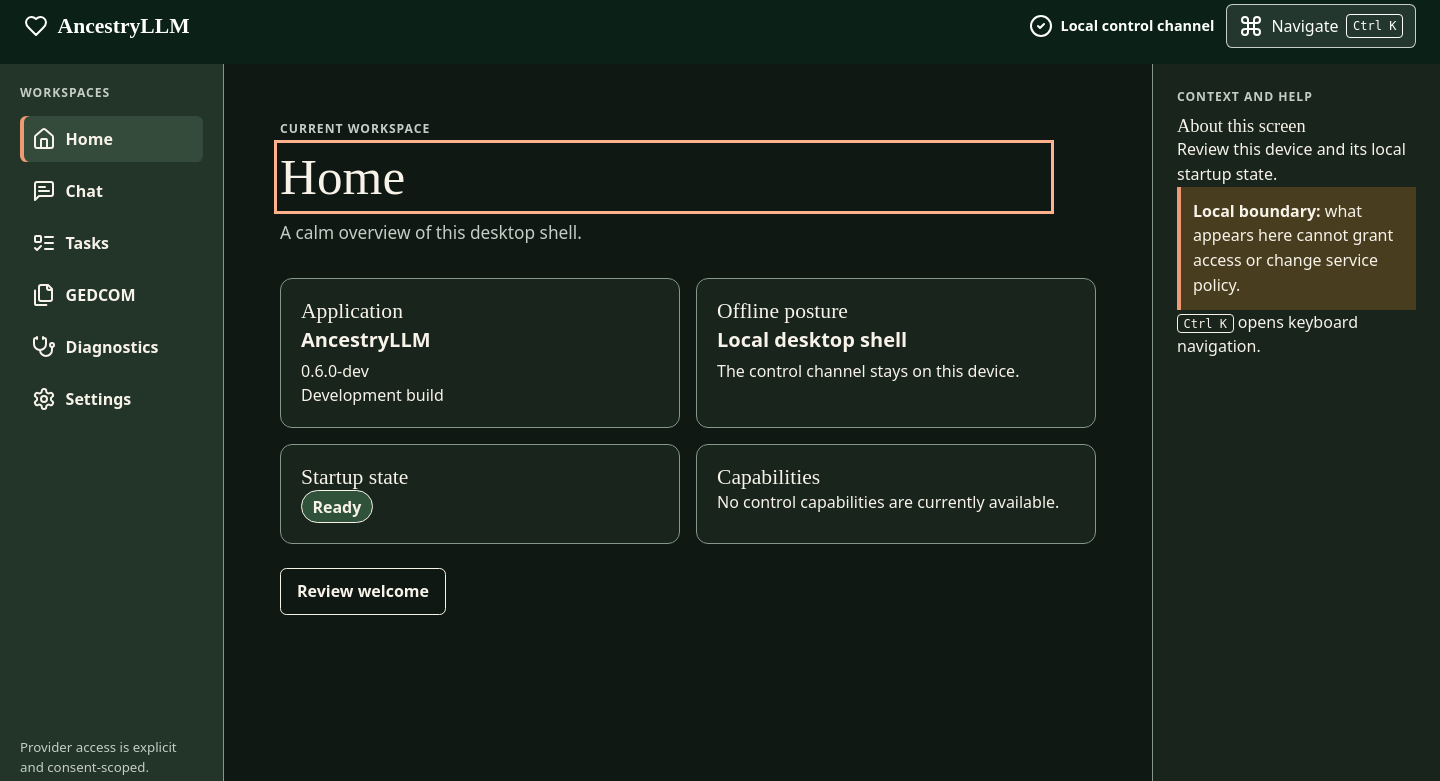
Test case: accessible desktop shell › applies the persisted color scheme when a renderer opens
Click the link "Settings".
click(82, 399)  # box [32,387,131,411]
(page scrolled)
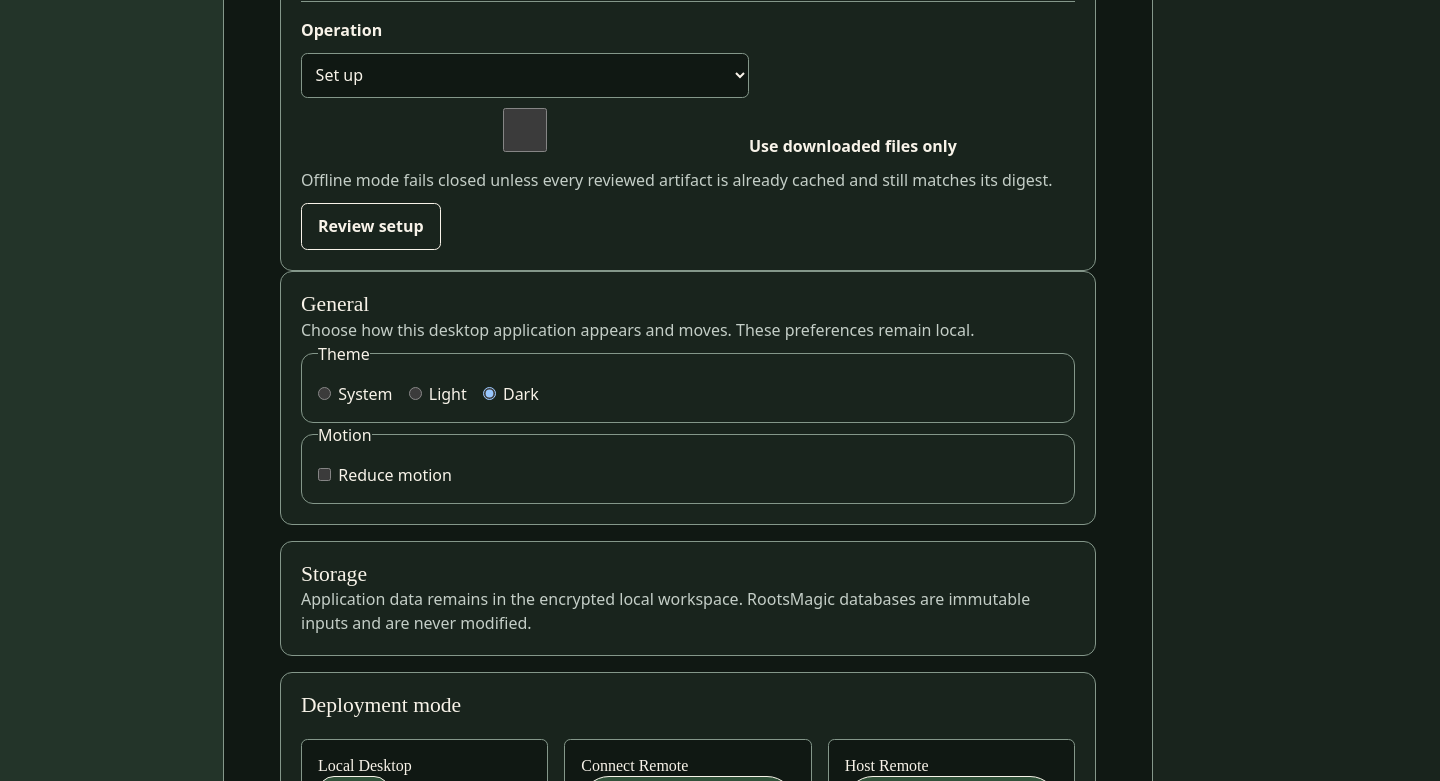
Result: the radio button labelled "dark" is checked at [483,387,496,400]
